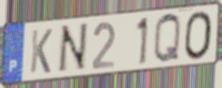1: (135, 16, 150, 67)
2: (91, 20, 117, 71)
K: (28, 28, 54, 75)
N: (55, 21, 89, 76)
O: (184, 10, 214, 62)
Q: (152, 12, 183, 66)
